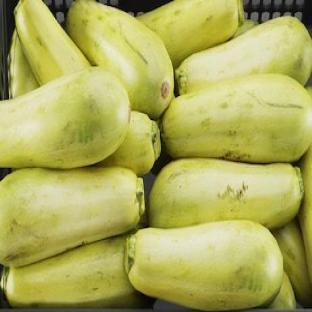Zucchini: (0, 167, 144, 266), (125, 221, 283, 310), (161, 75, 311, 163), (0, 68, 130, 169), (1, 234, 152, 308), (148, 159, 303, 227), (176, 17, 311, 94), (98, 112, 160, 176), (273, 220, 311, 307), (9, 30, 38, 98), (299, 147, 311, 281), (270, 274, 296, 309), (233, 20, 258, 38)
